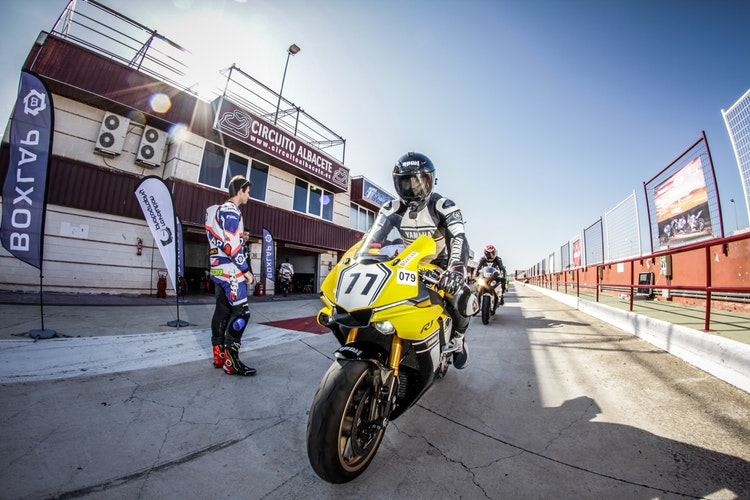helmet: (379, 148, 445, 204)
